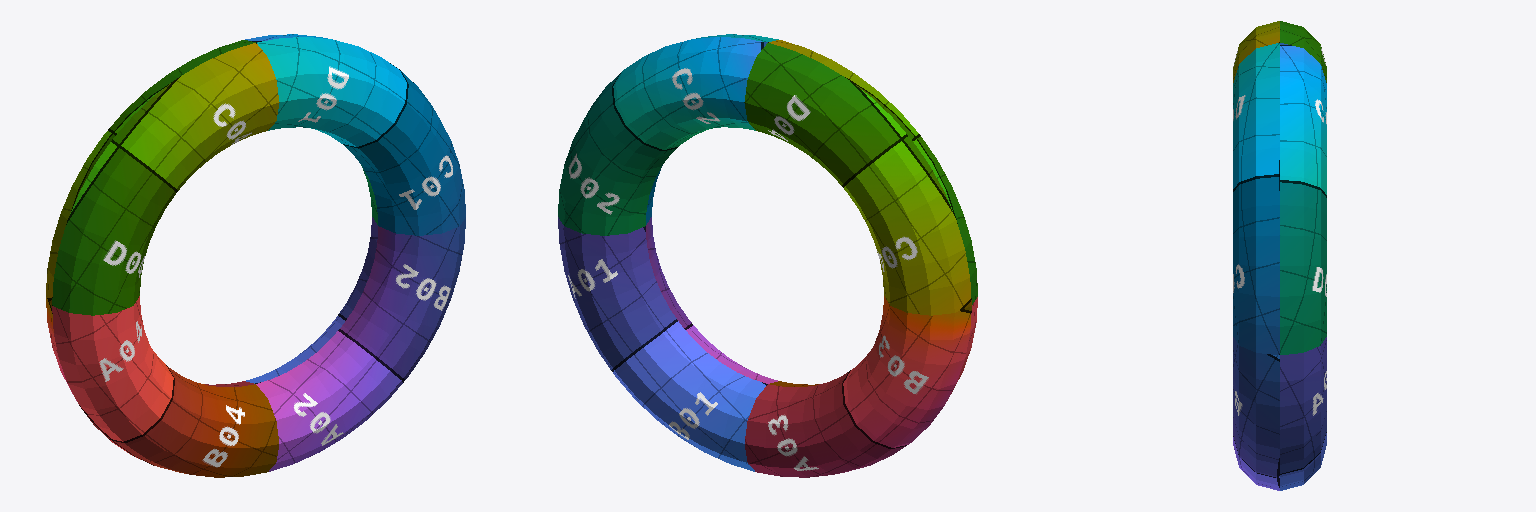
3 renders of one model, left to right at view 1: azimuth 30°, elevation 25°; view 2: azimuth 150°, elevation 25°; view 3: azimuth 270°, elevation 25°, orthographic.
Parts seen in each view (by area): view 1: Torus; view 2: Torus; view 3: Torus.
Boxes of the visible parts, box(x1,y1,x2,y2) form: Torus: box(46, 34, 465, 477); Torus: box(558, 34, 977, 477); Torus: box(1233, 21, 1326, 490).
Size of the model in its own units: 2.5 by 2.5 by 0.5.
Materials: 1 (1 with a texture image).